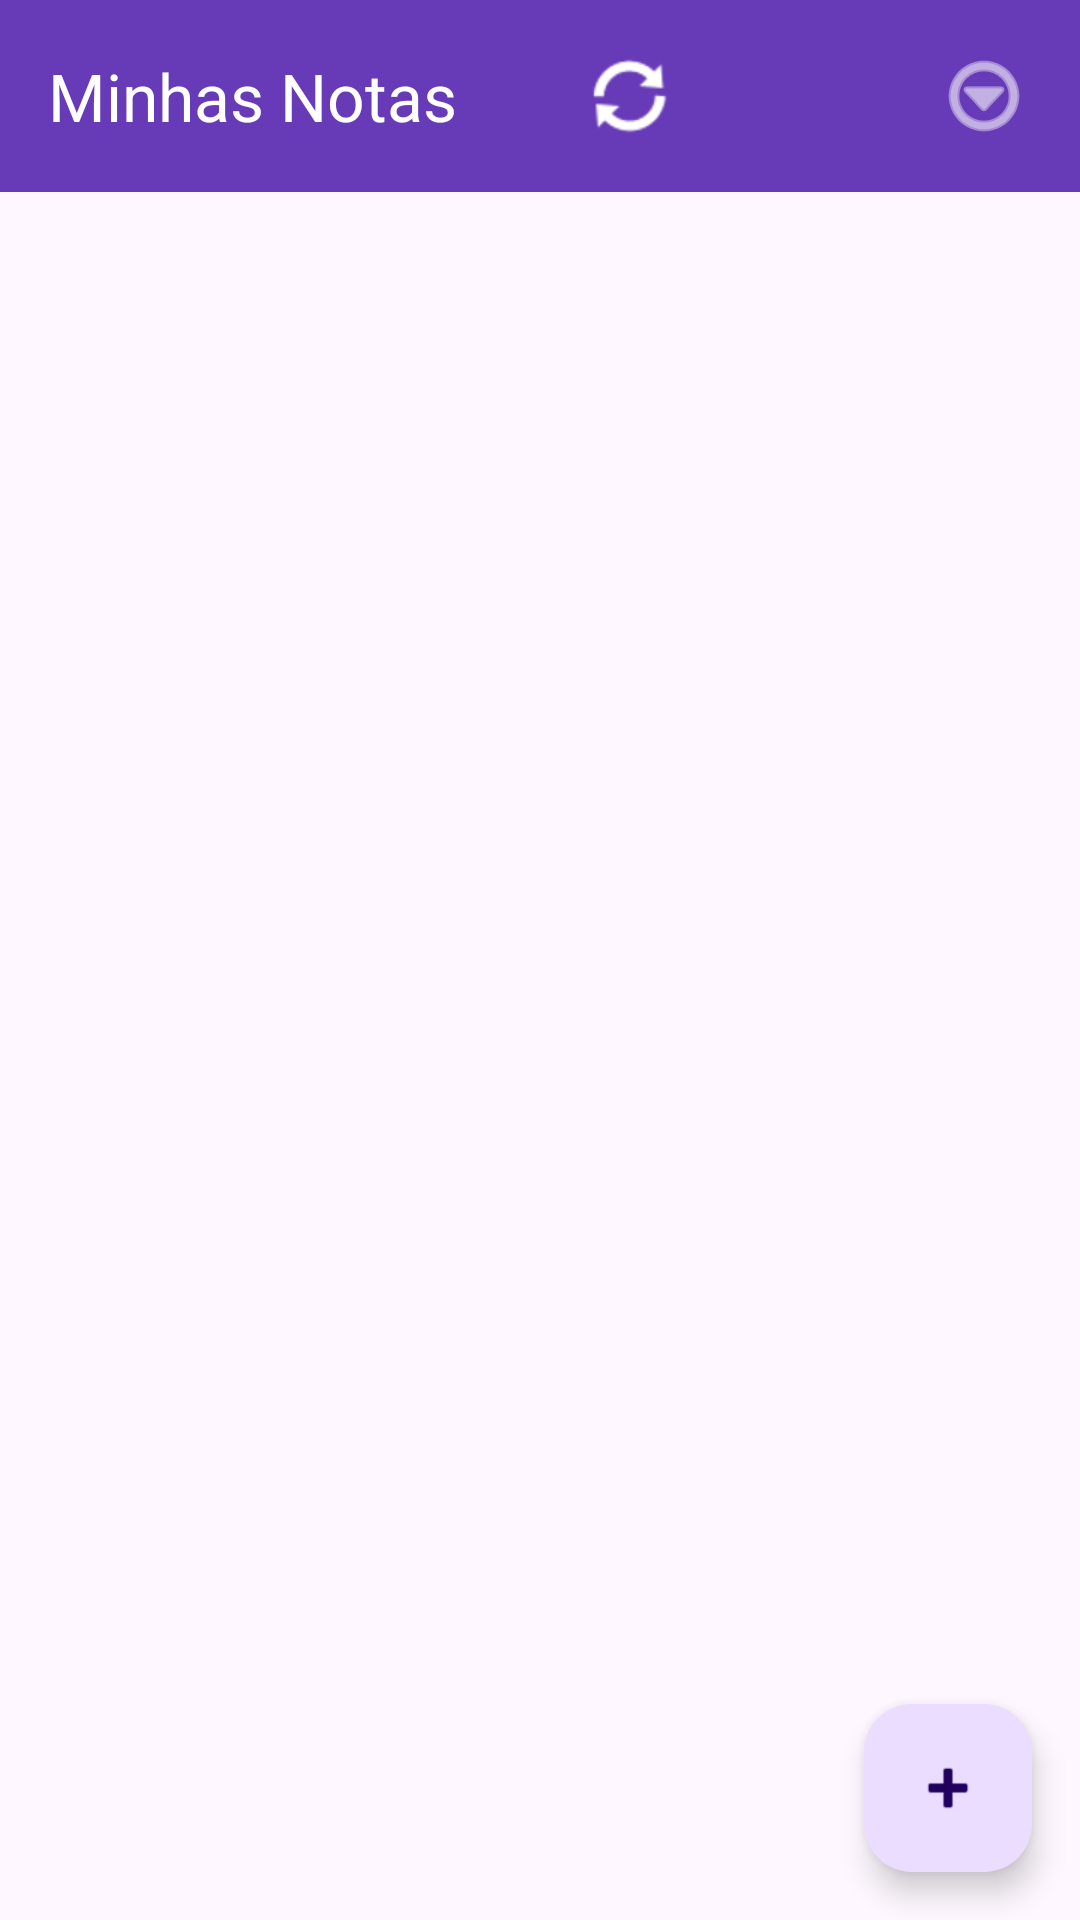

Icons on this 1080px x 1920px Android screen, each with the point to tap as [x,y]:
Adicionar nota: [948,1788]
Menu: [984,96]
Sync notes: [629,96]
